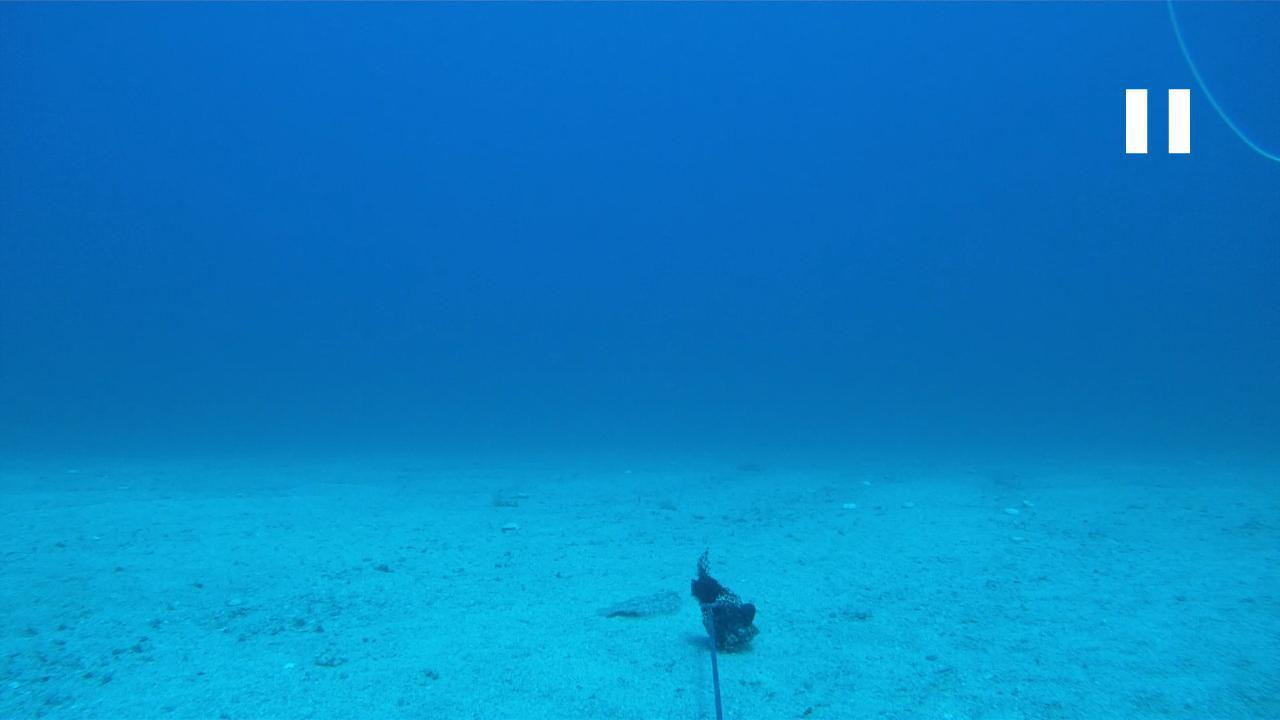bothus: (586, 586, 684, 622)
